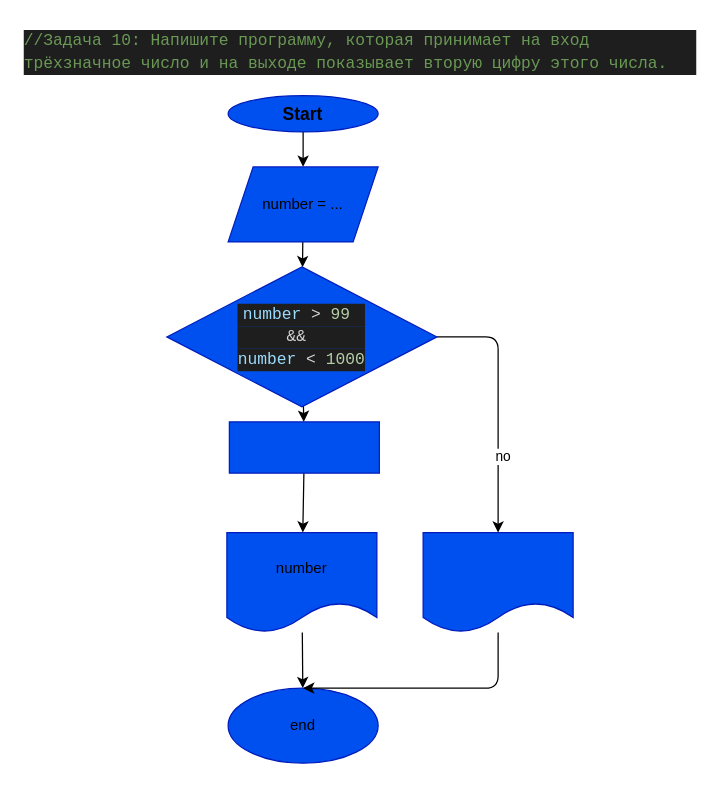
This 718x785 diagram has some shape labels left out. Each missing label, with the centre of its shape:
number = (number / 10) % 10: point 303,447
Число не трехзначное: point 497,581
